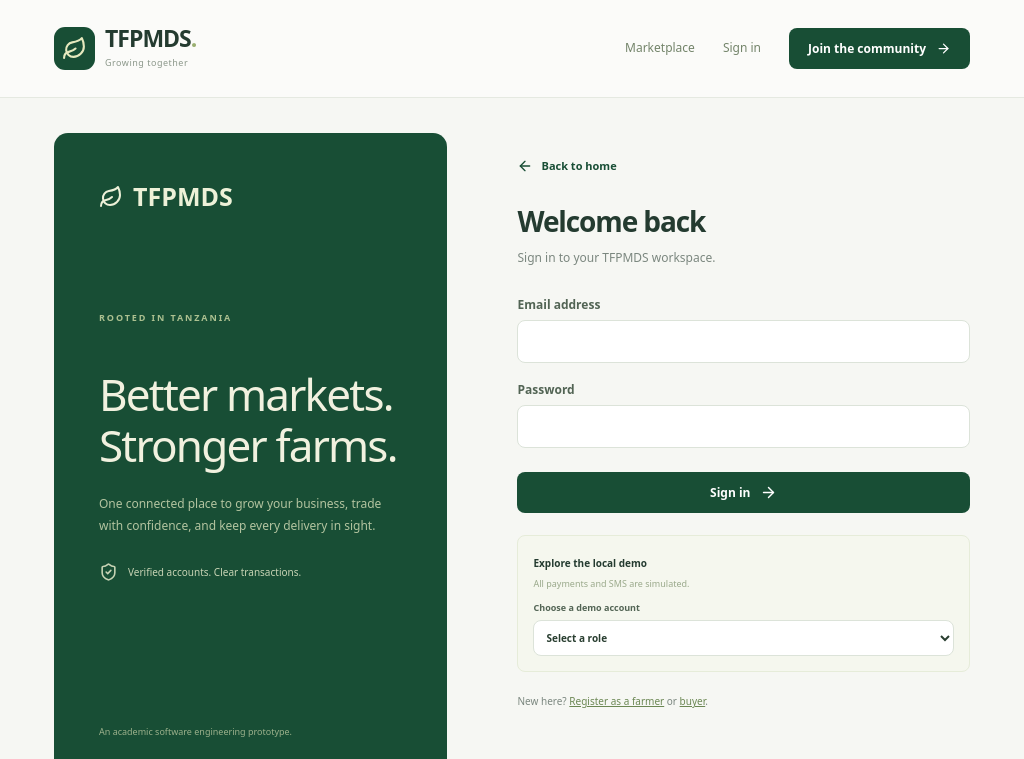
it: shows actionable API errors when login fails
In the field labelled "Email address": (744, 341) [518, 320, 970, 363], type "buyer@tfpmds.demo"
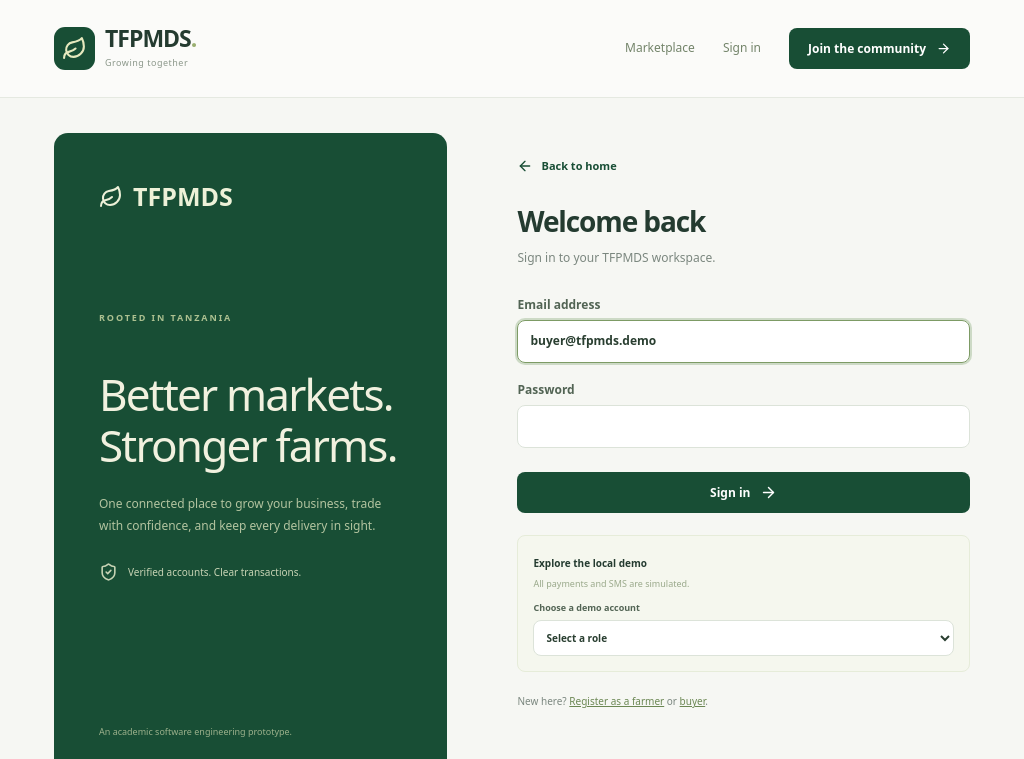
In the password field labelled "Password": (744, 426) [518, 405, 970, 448], type "wrong-password"
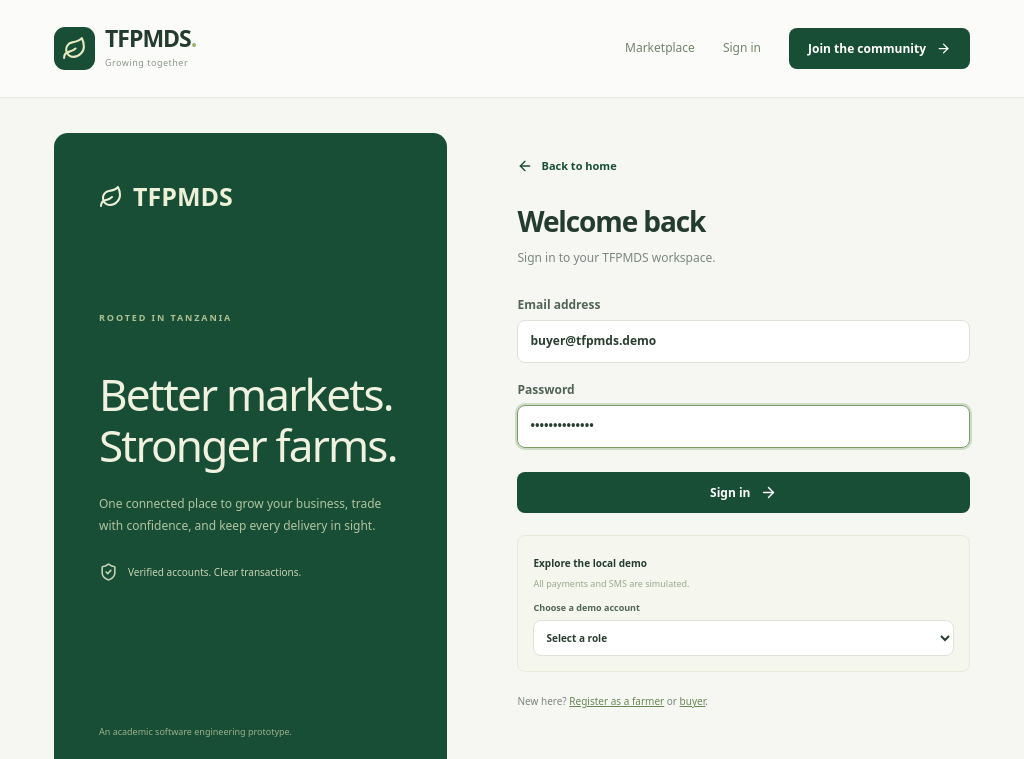
Click the button "Sign in": (744, 492) [518, 472, 970, 513]
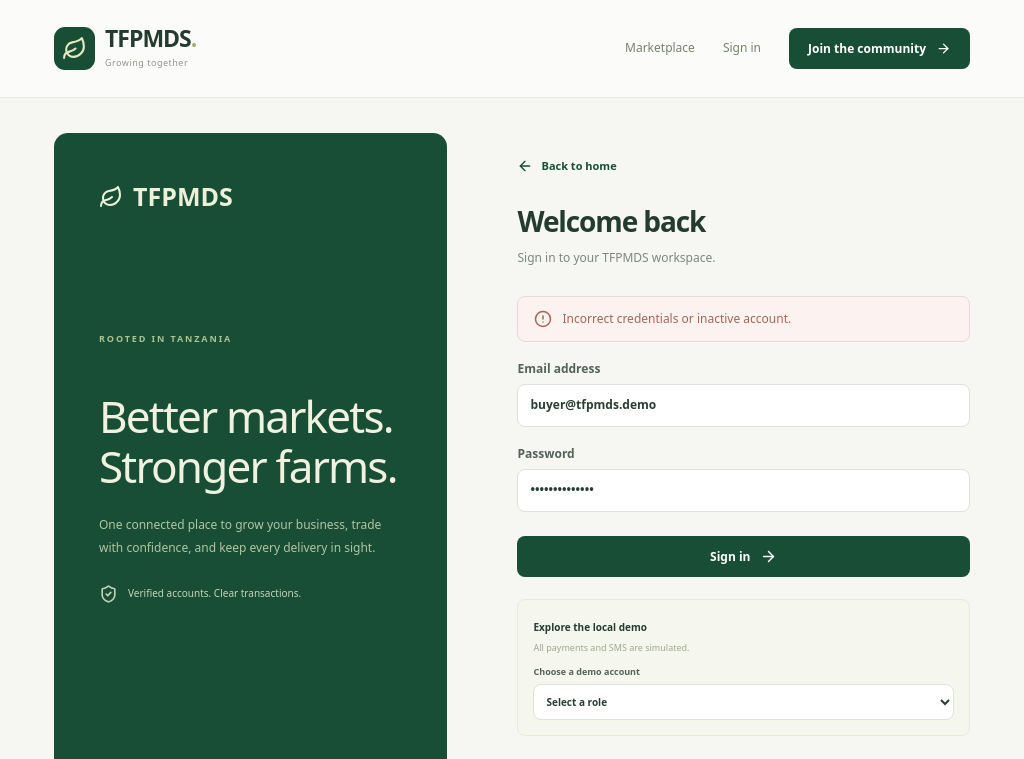
Expected: the message shows "Incorrect credentials", [562, 310, 791, 327]
